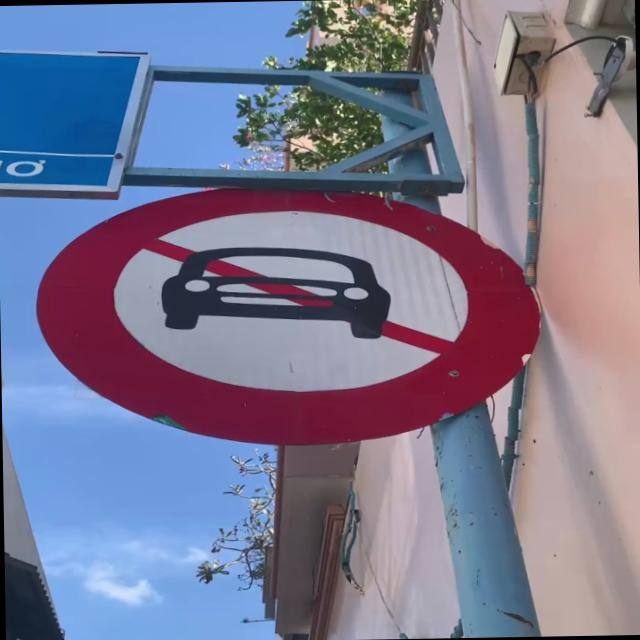Cam_O_To: (35, 183, 538, 446)
